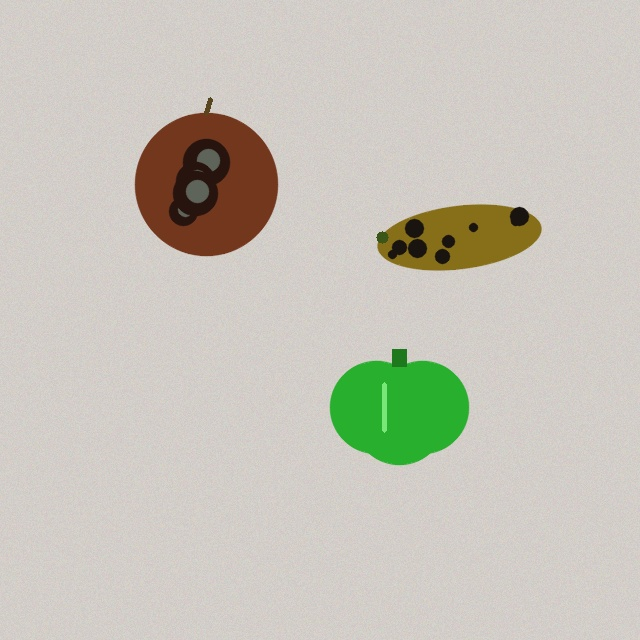Fresh bell pepper: (330, 349, 468, 464)
Rotten apple: (135, 99, 277, 255)
Rotten banana: (373, 199, 545, 275)
